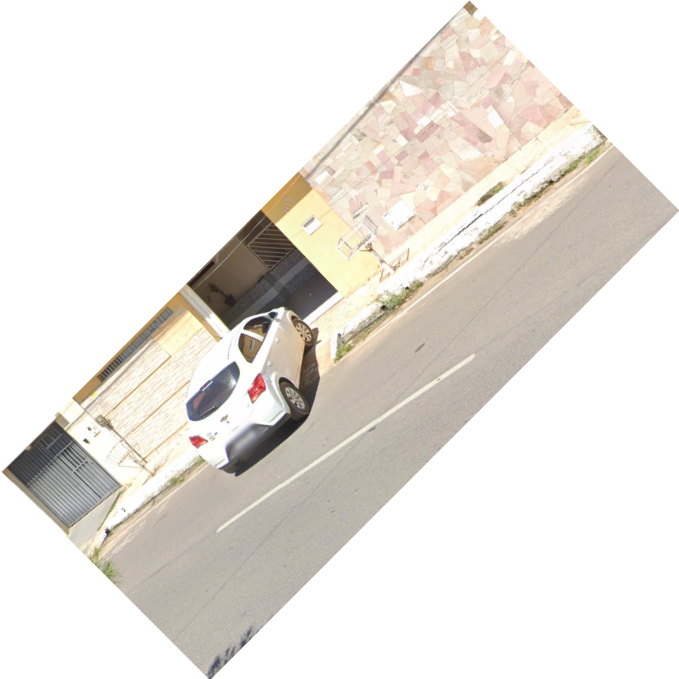car: (176, 303, 324, 480)
